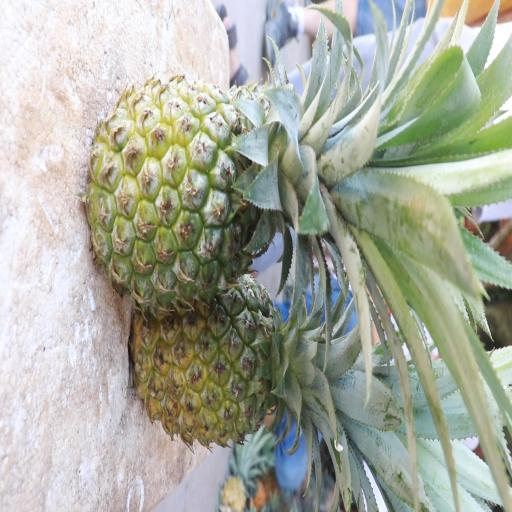------------------------------: (88, 68, 332, 288)
Pineapple - v8 v1: (133, 276, 324, 477)
